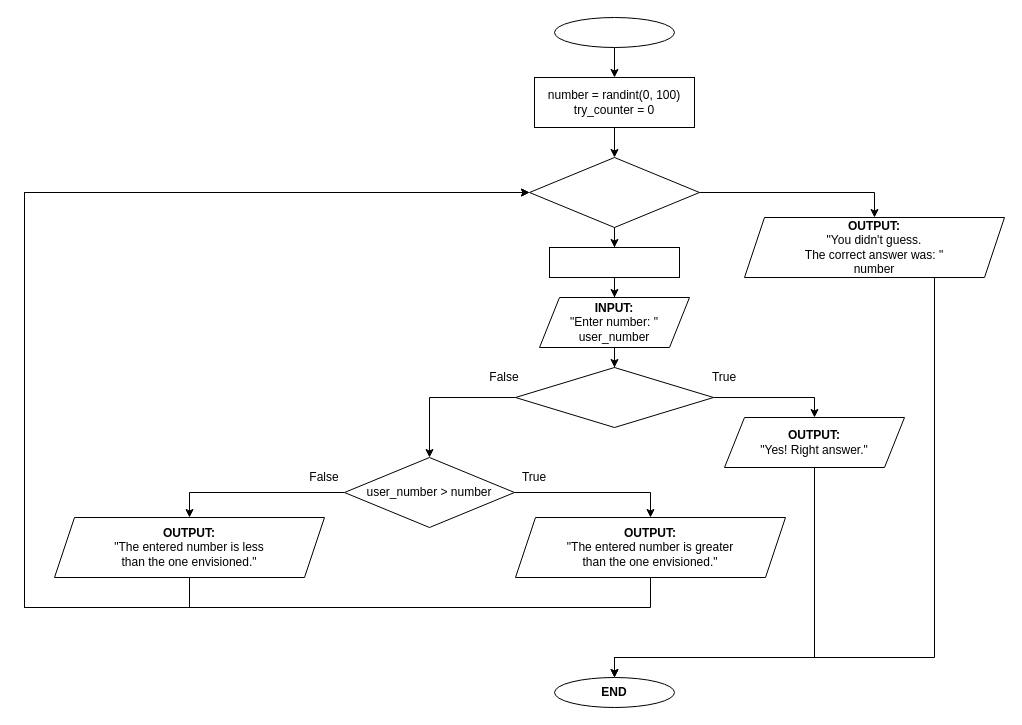
Some shapes in this 1022 by 725 pixel diagram are drawn without their labels. The shapes that lost their labels are listed below. From the top down, each one's box as (x1, y1, x2, y2) in pixels, then its label:
(554, 16, 674, 48): BEGIN
(528, 156, 700, 228): while try_counter < 10
(548, 246, 680, 278): try_counter -= 1
(514, 366, 714, 428): user_number == number
